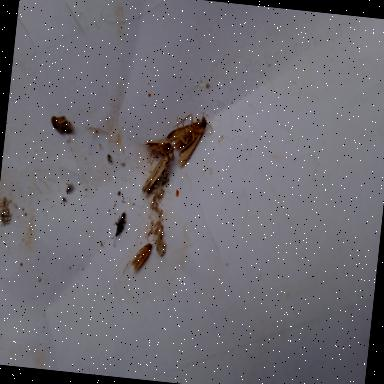abw: (164, 112, 214, 170)
pbw: (122, 231, 156, 278), (141, 148, 174, 195), (110, 208, 127, 248), (142, 136, 174, 157), (50, 114, 74, 135)
